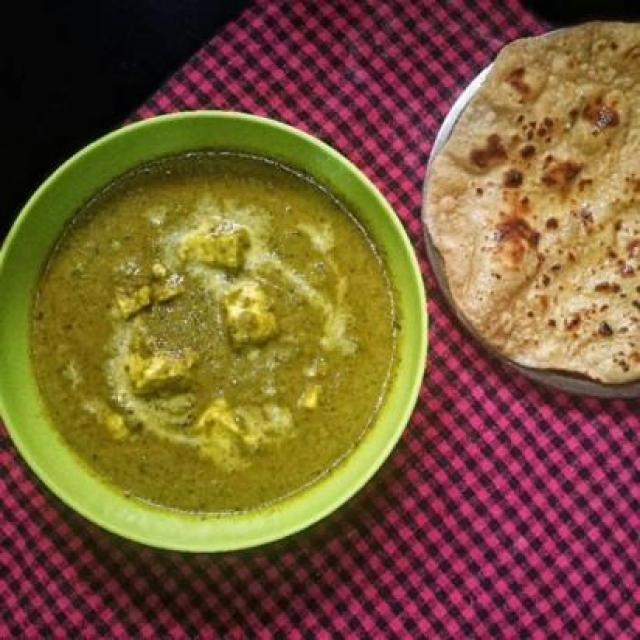alooparatha-chapati: (424, 12, 640, 394)
palakpaneer: (0, 107, 419, 572)
